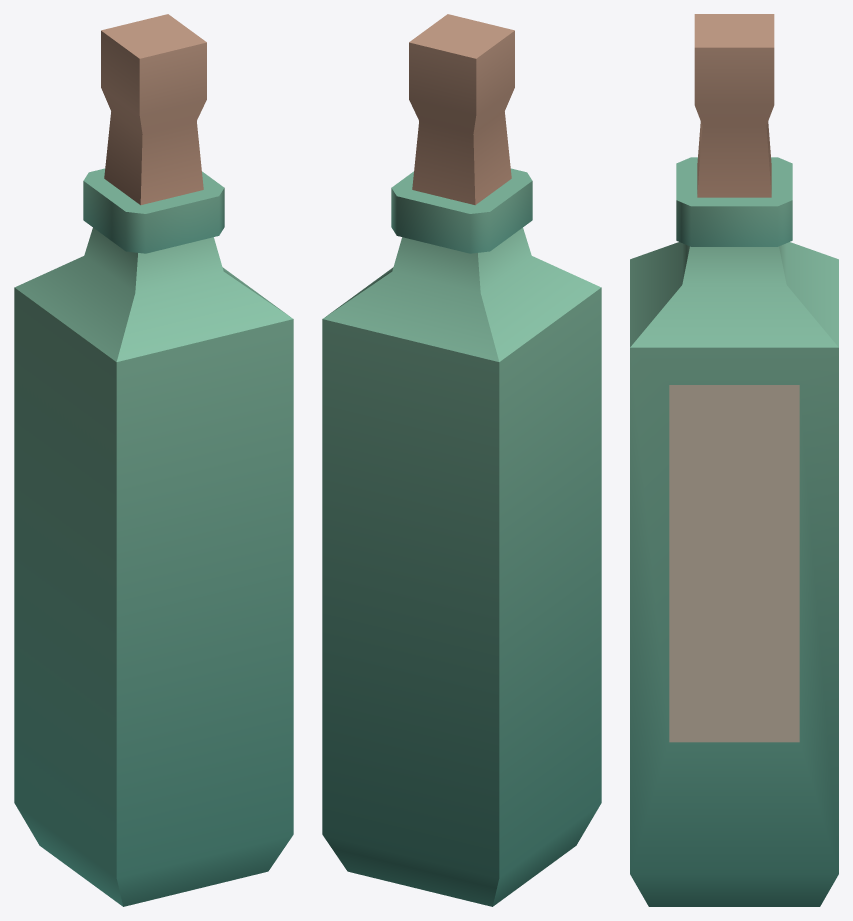
File: bottle-oil.glb
The picture shows the model from 3 angles, left to right: view 1: azimuth 30°, elevation 25°; view 2: azimuth 150°, elevation 25°; view 3: azimuth 270°, elevation 25°; orthographic projection. The views are drawn at different scales.
Parts seen in each view (by area): view 1: bottle-oil; view 2: bottle-oil; view 3: bottle-oil.
Boxes of the visible parts, left/top/right/bottom form: bottle-oil: left=14, top=14, right=293, bottom=906; bottle-oil: left=322, top=14, right=601, bottom=906; bottle-oil: left=630, top=14, right=838, bottom=906.
Size of the model in its own units: 0.14 by 0.6218 by 0.14.
